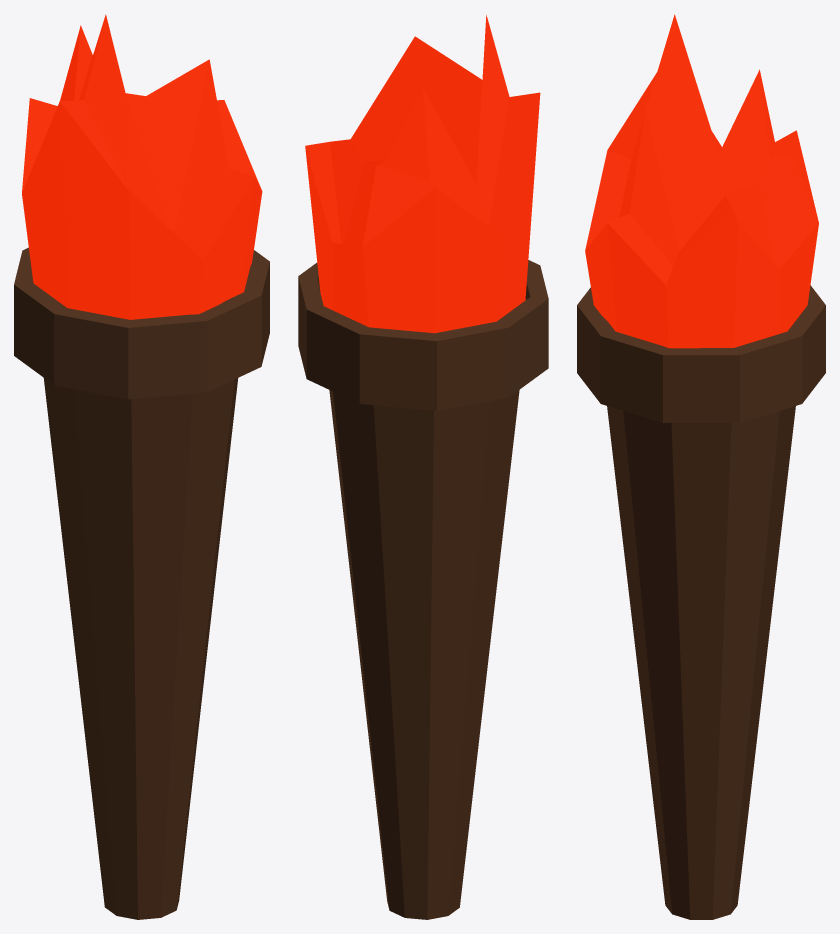
Rendered from HandTorch.glb.
The picture shows the model from 3 angles, left to right: view 1: azimuth 30°, elevation 25°; view 2: azimuth 150°, elevation 25°; view 3: azimuth 270°, elevation 25°; orthographic projection. The views are drawn at different scales.
Visible parts, largest first — view 1: Cylinder; view 2: Cylinder; view 3: Cylinder.
Boxes of the visible parts, left/top/right/bottom form: Cylinder: left=14, top=14, right=269, bottom=919; Cylinder: left=298, top=15, right=548, bottom=919; Cylinder: left=577, top=14, right=825, bottom=919.
Bounding box in the file's own units: 3.61 × 14.61 × 3.8.
2 materials, 1 textured.
